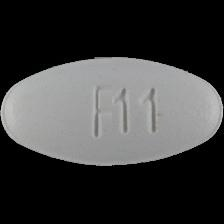43598-319: (0, 0, 224, 224)
